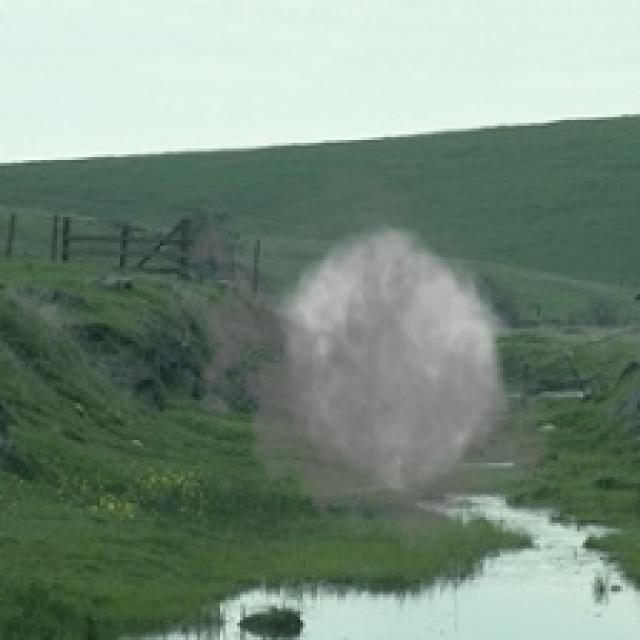Smoke: (174, 152, 566, 568)
